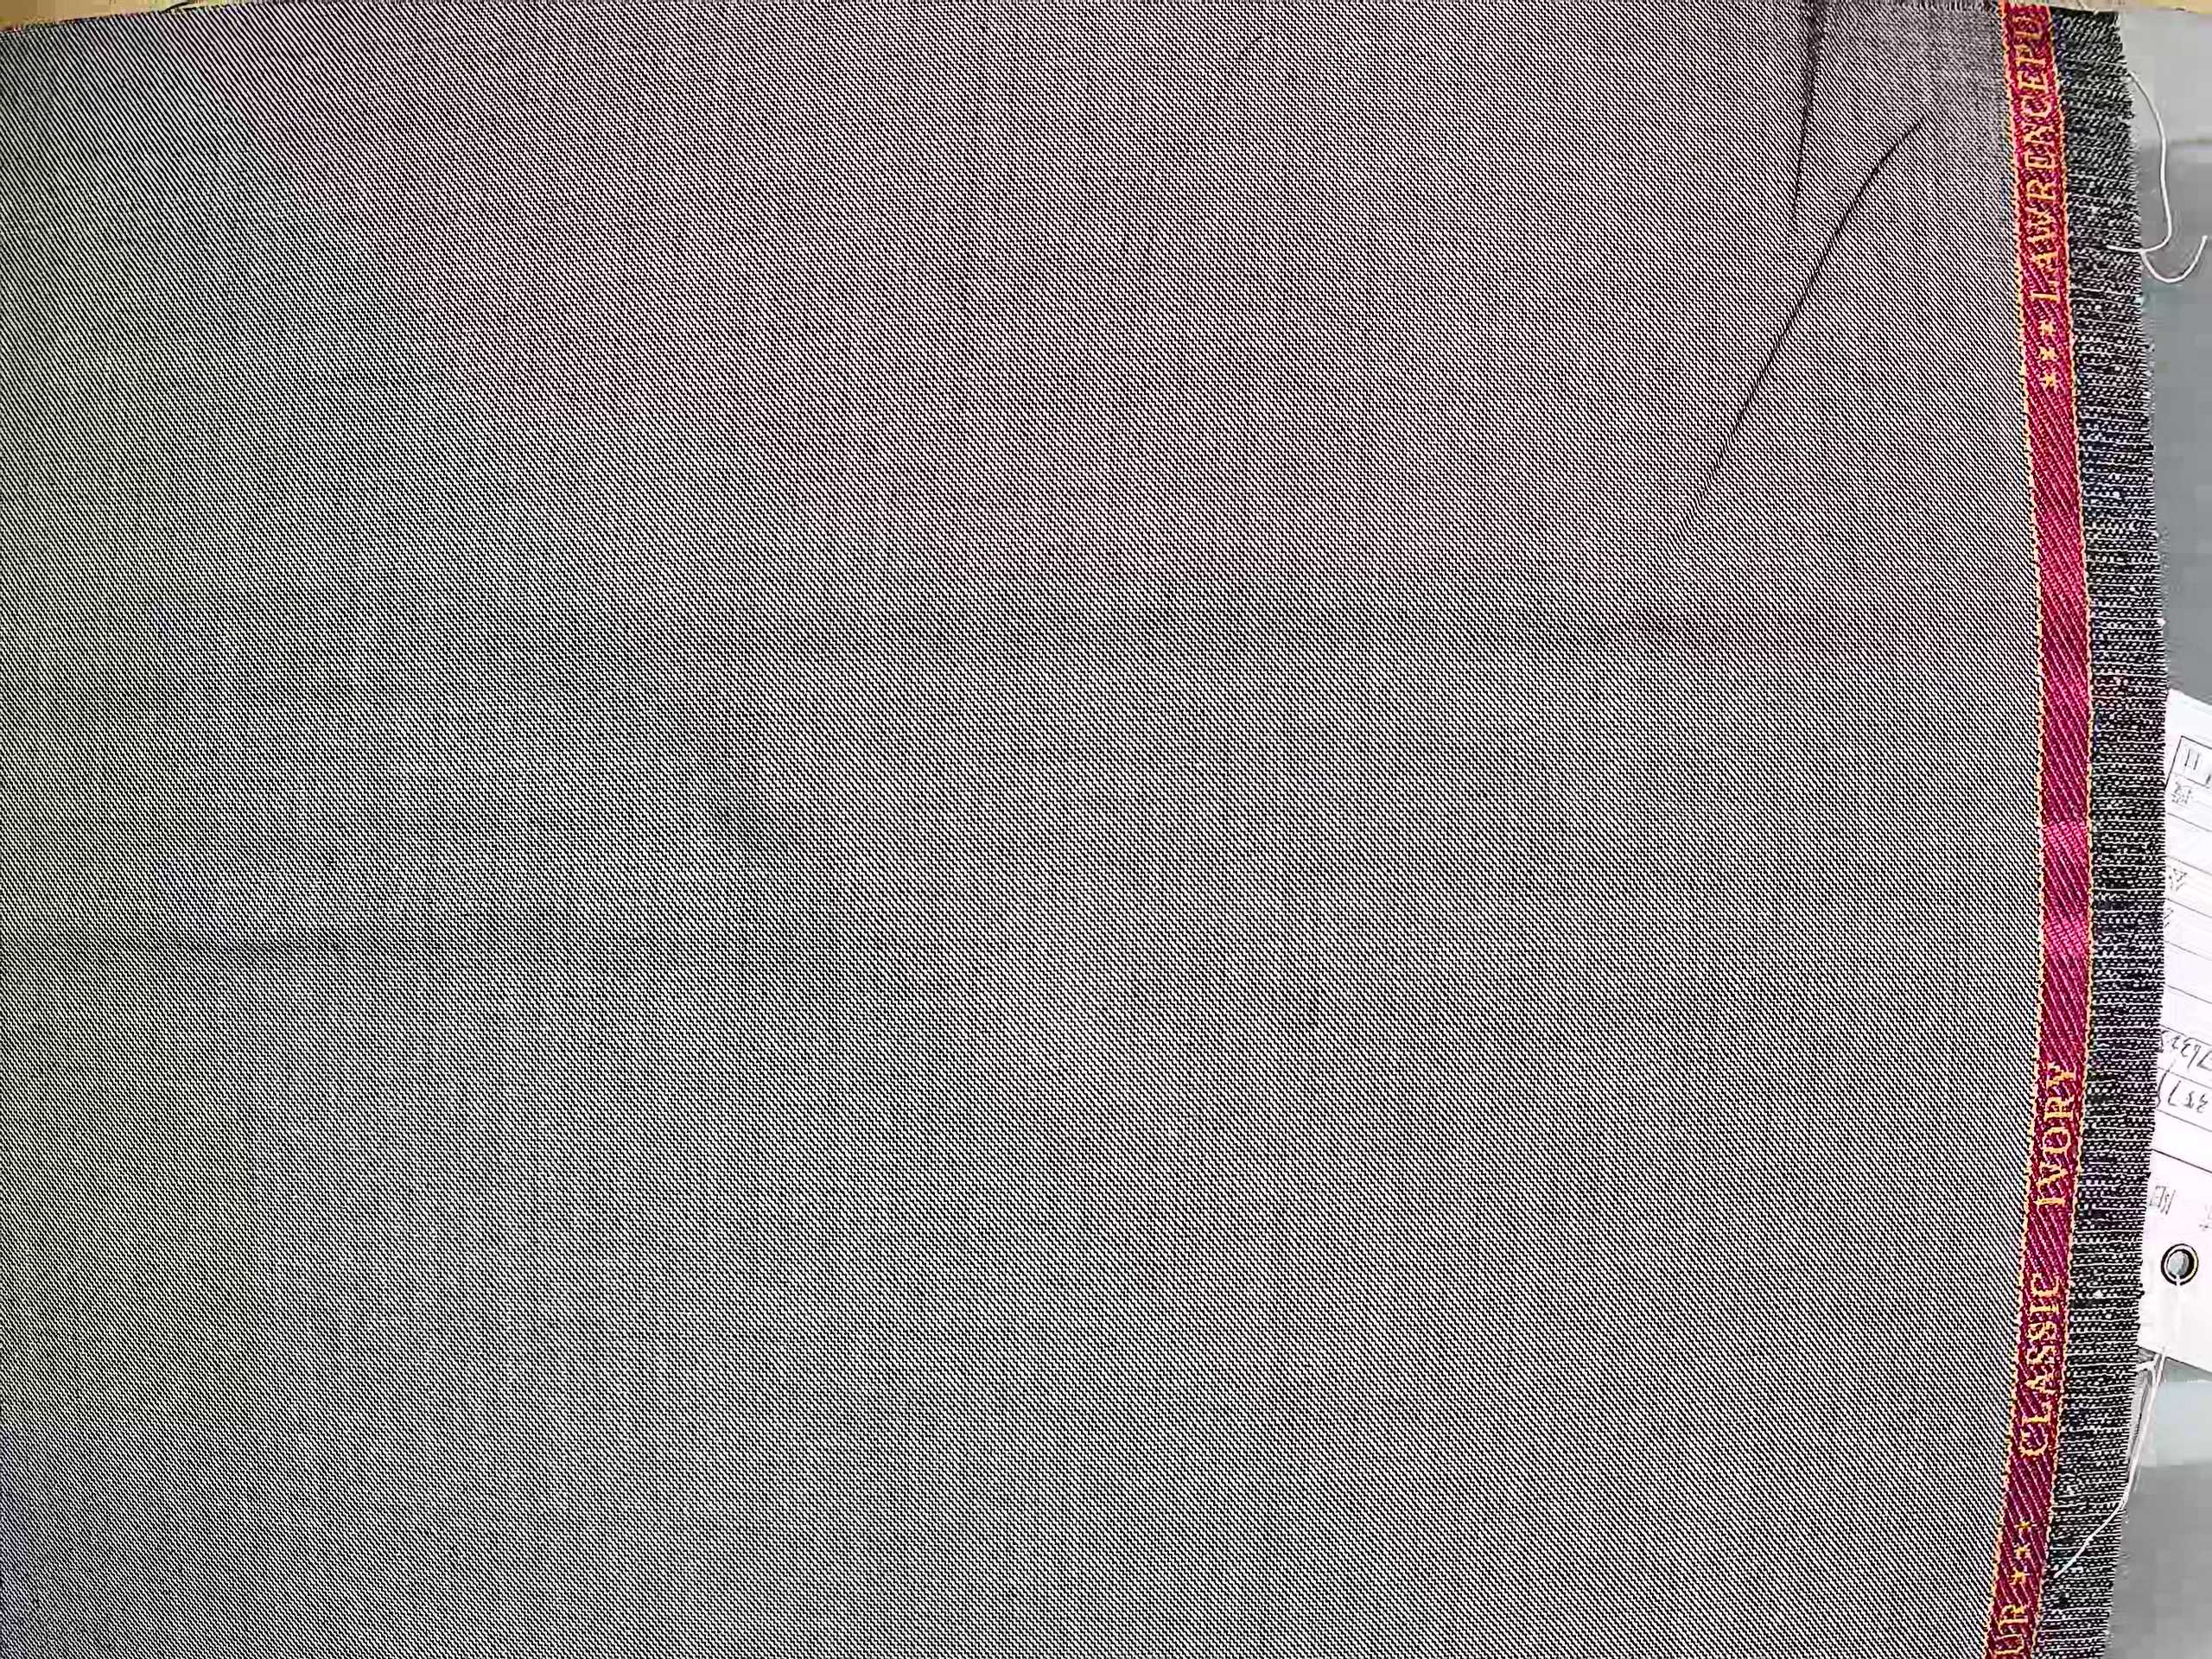others: (1155, 23, 1299, 199), (608, 0, 671, 403), (968, 12, 993, 375)
